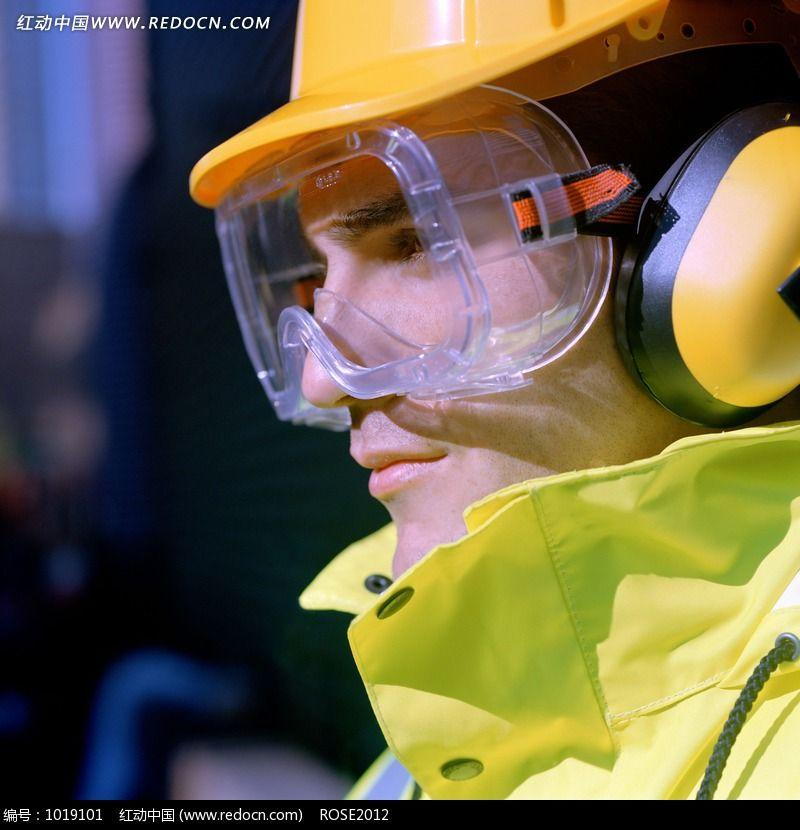helmet: (180, 1, 800, 203)
